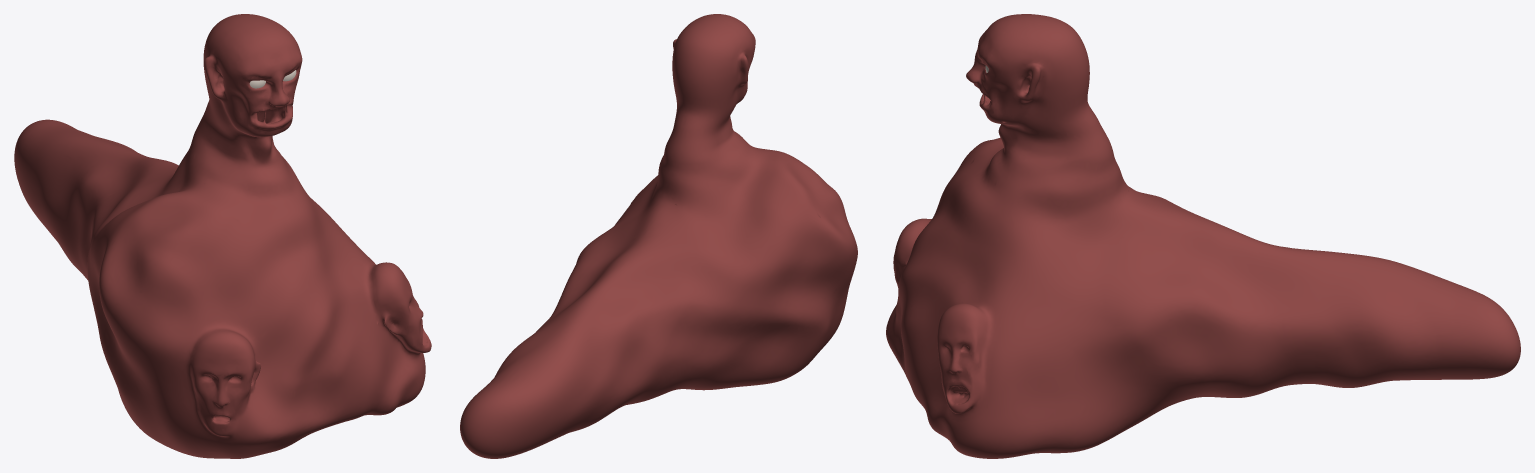
File: Slither.fbx
3 views of the same model, side by side, from view 1: azimuth 30°, elevation 25°; view 2: azimuth 150°, elevation 25°; view 3: azimuth 270°, elevation 25° (orthographic). The views are drawn at different scales.
Visible parts, largest first — view 1: Sphere; view 2: Sphere; view 3: Sphere.
Boxes of the visible parts, x1,y1,x2,y2 form: Sphere: (14, 14, 431, 458); Sphere: (460, 14, 857, 458); Sphere: (886, 14, 1520, 458).
Size of the model in its own units: 745 by 952 by 1392.
